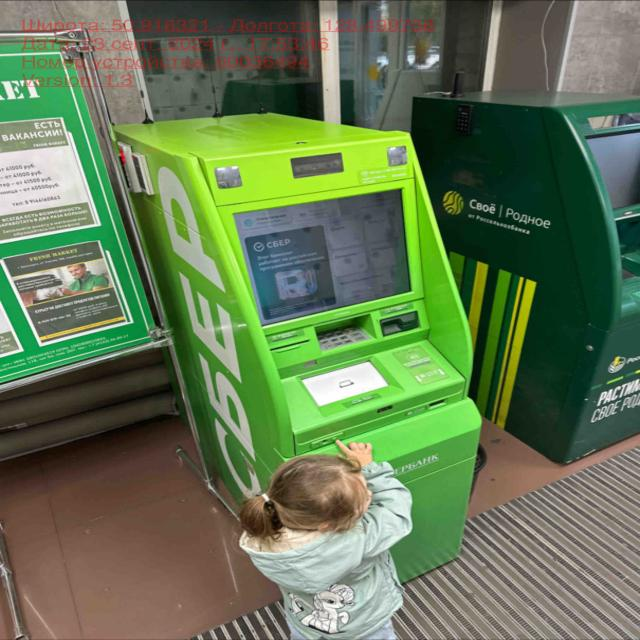bank: (104, 108, 473, 590)
